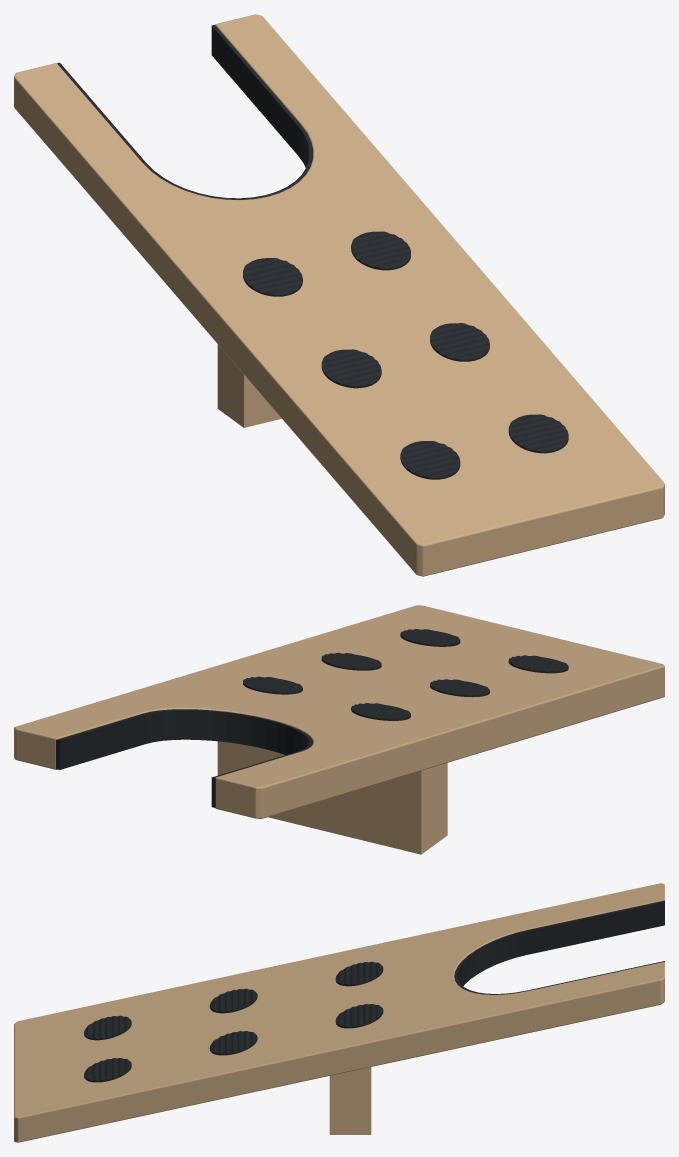
3 renders of one model, top to bottom at view 1: azimuth 30°, elevation 25°; view 2: azimuth 150°, elevation 25°; view 3: azimuth 270°, elevation 25°, orthographic. The views are drawn at different scales.
Parts seen in each view (by area): view 1: Inclined_solid_wood_board_with_open_heel_fork, Backed_U_shaped_rubber_heel_liner, Transverse_wood_support_seated_under_board, Circular_rubber_tread_pad_1_2, Circular_rubber_tread_pad_3_2, Circular_rubber_tread_pad_2_1, Circular_rubber_tread_pad_2_2, Circular_rubber_tread_pad_3_1, Circular_rubber_tread_pad_1_1; view 2: Inclined_solid_wood_board_with_open_heel_fork, Transverse_wood_support_seated_under_board, Backed_U_shaped_rubber_heel_liner, Circular_rubber_tread_pad_1_1, Circular_rubber_tread_pad_1_2, Circular_rubber_tread_pad_2_2, Circular_rubber_tread_pad_3_1, Circular_rubber_tread_pad_2_1, Circular_rubber_tread_pad_3_2; view 3: Inclined_solid_wood_board_with_open_heel_fork, Backed_U_shaped_rubber_heel_liner, Transverse_wood_support_seated_under_board, Circular_rubber_tread_pad_1_1, Circular_rubber_tread_pad_2_2, Circular_rubber_tread_pad_2_1, Circular_rubber_tread_pad_3_1, Circular_rubber_tread_pad_3_2, Circular_rubber_tread_pad_1_2.
Part boxes in pixels (x1=…): Inclined_solid_wood_board_with_open_heel_fork: x1=14, y1=14, x2=664, y2=576; Backed_U_shaped_rubber_heel_liner: x1=57, y1=25, x2=312, y2=199; Transverse_wood_support_seated_under_board: x1=217, y1=344, x2=281, y2=427; Circular_rubber_tread_pad_1_2: x1=508, y1=414, x2=568, y2=453; Circular_rubber_tread_pad_3_2: x1=351, y1=231, x2=410, y2=270; Circular_rubber_tread_pad_2_1: x1=321, y1=349, x2=381, y2=388; Circular_rubber_tread_pad_2_2: x1=430, y1=323, x2=489, y2=361; Circular_rubber_tread_pad_3_1: x1=243, y1=258, x2=302, y2=296; Circular_rubber_tread_pad_1_1: x1=400, y1=441, x2=460, y2=479; Inclined_solid_wood_board_with_open_heel_fork: x1=14, y1=605, x2=664, y2=818; Transverse_wood_support_seated_under_board: x1=217, y1=741, x2=447, y2=854; Backed_U_shaped_rubber_heel_liner: x1=56, y1=709, x2=312, y2=807; Circular_rubber_tread_pad_1_1: x1=508, y1=655, x2=568, y2=673; Circular_rubber_tread_pad_1_2: x1=400, y1=629, x2=460, y2=646; Circular_rubber_tread_pad_2_2: x1=321, y1=652, x2=381, y2=670; Circular_rubber_tread_pad_3_1: x1=351, y1=703, x2=410, y2=720; Circular_rubber_tread_pad_2_1: x1=430, y1=679, x2=489, y2=697; Circular_rubber_tread_pad_3_2: x1=243, y1=676, x2=302, y2=694; Inclined_solid_wood_board_with_open_heel_fork: x1=14, y1=883, x2=664, y2=1142; Backed_U_shaped_rubber_heel_liner: x1=454, y1=900, x2=664, y2=994; Transverse_wood_support_seated_under_board: x1=329, y1=1067, x2=371, y2=1134; Circular_rubber_tread_pad_1_1: x1=84, y1=1015, x2=131, y2=1040; Circular_rubber_tread_pad_2_2: x1=209, y1=1031, x2=257, y2=1055; Circular_rubber_tread_pad_2_1: x1=209, y1=988, x2=257, y2=1013; Circular_rubber_tread_pad_3_1: x1=335, y1=961, x2=383, y2=986; Circular_rubber_tread_pad_3_2: x1=335, y1=1004, x2=383, y2=1028; Circular_rubber_tread_pad_1_2: x1=84, y1=1058, x2=131, y2=1082.
Size of the model in its own units: 0.115 by 0.091 by 0.326.
